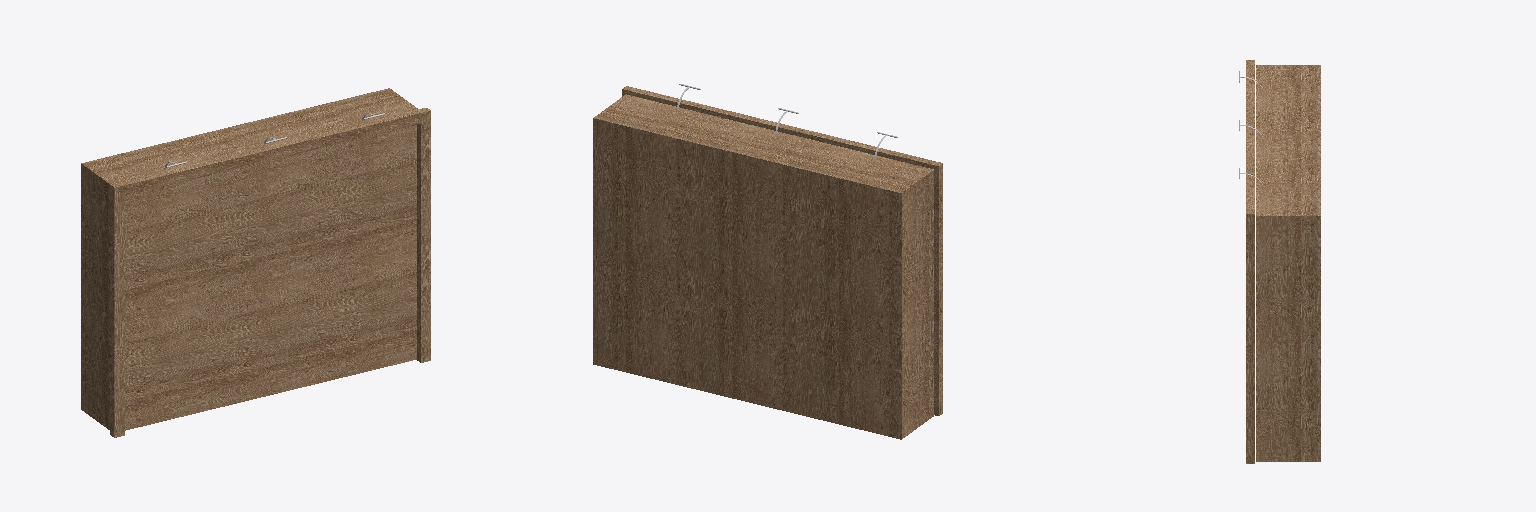
3 renders of one model, left to right at view 1: azimuth 30°, elevation 25°; view 2: azimuth 150°, elevation 25°; view 3: azimuth 270°, elevation 25°, orthographic.
Visible parts, largest first — view 1: material_0_0; view 2: material_0_0; view 3: material_0_0.
Part boxes in pixels (left/top/right/bottom): material_0_0: left=81, top=88, right=430, bottom=437; material_0_0: left=593, top=86, right=942, bottom=439; material_0_0: left=1246, top=60, right=1320, bottom=463.
Size of the model in its own units: 1.54 by 1.22 by 0.3477.
2 materials, 2 textured.